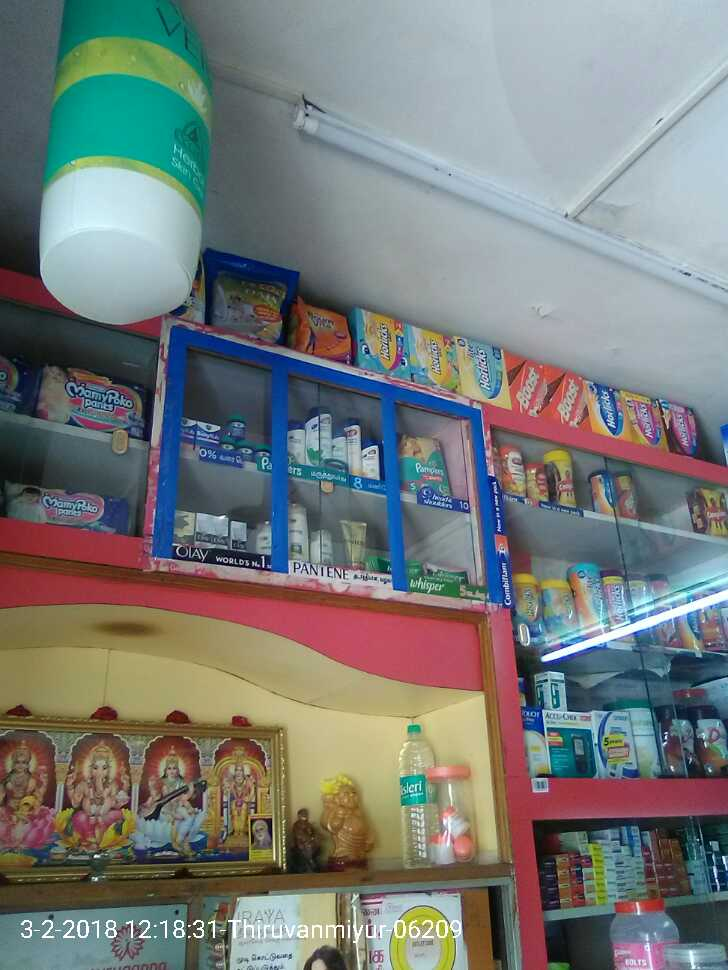vicks: (178, 406, 270, 462)
